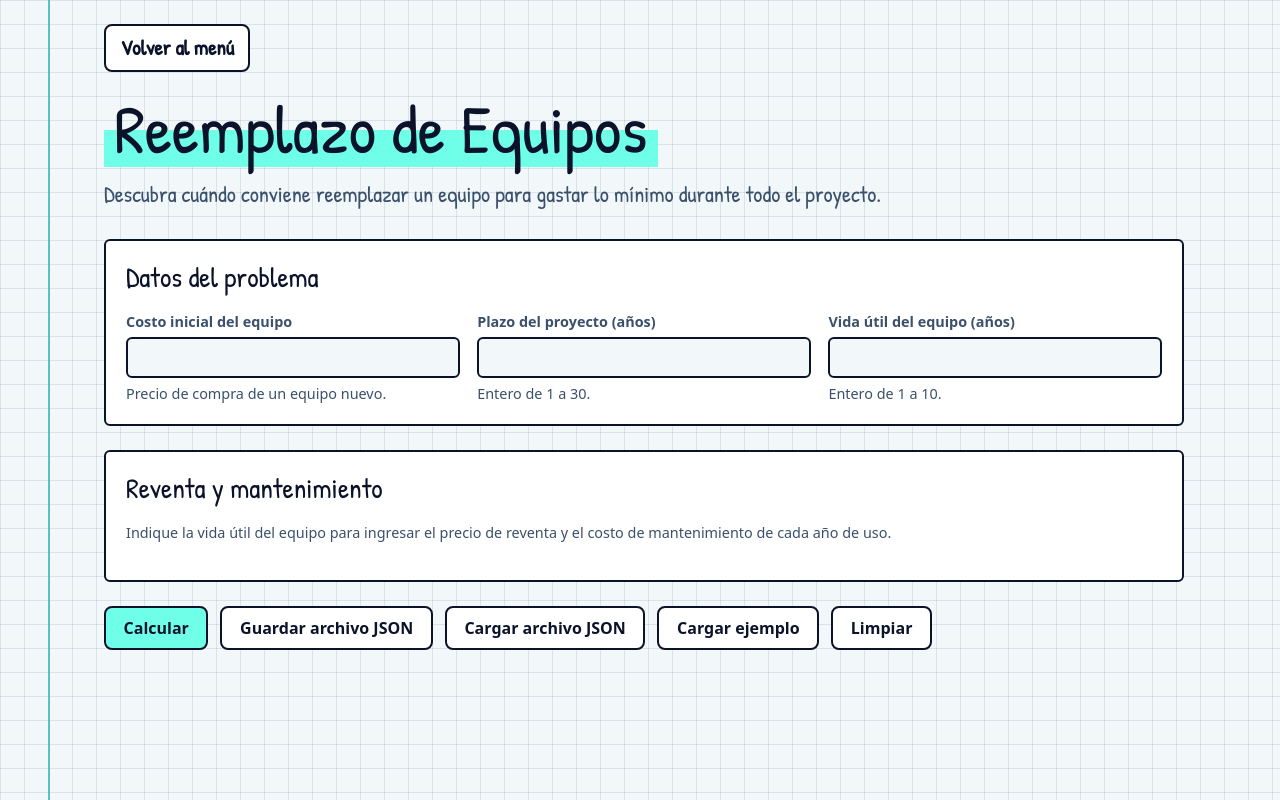
Test: Pantalla de Reemplazo de Equipos › avisa con claridad si no hay conexión con el backend
Click the button "Cargar ejemplo".
click(738, 628)  # box [658,606,819,650]
(page scrolled)
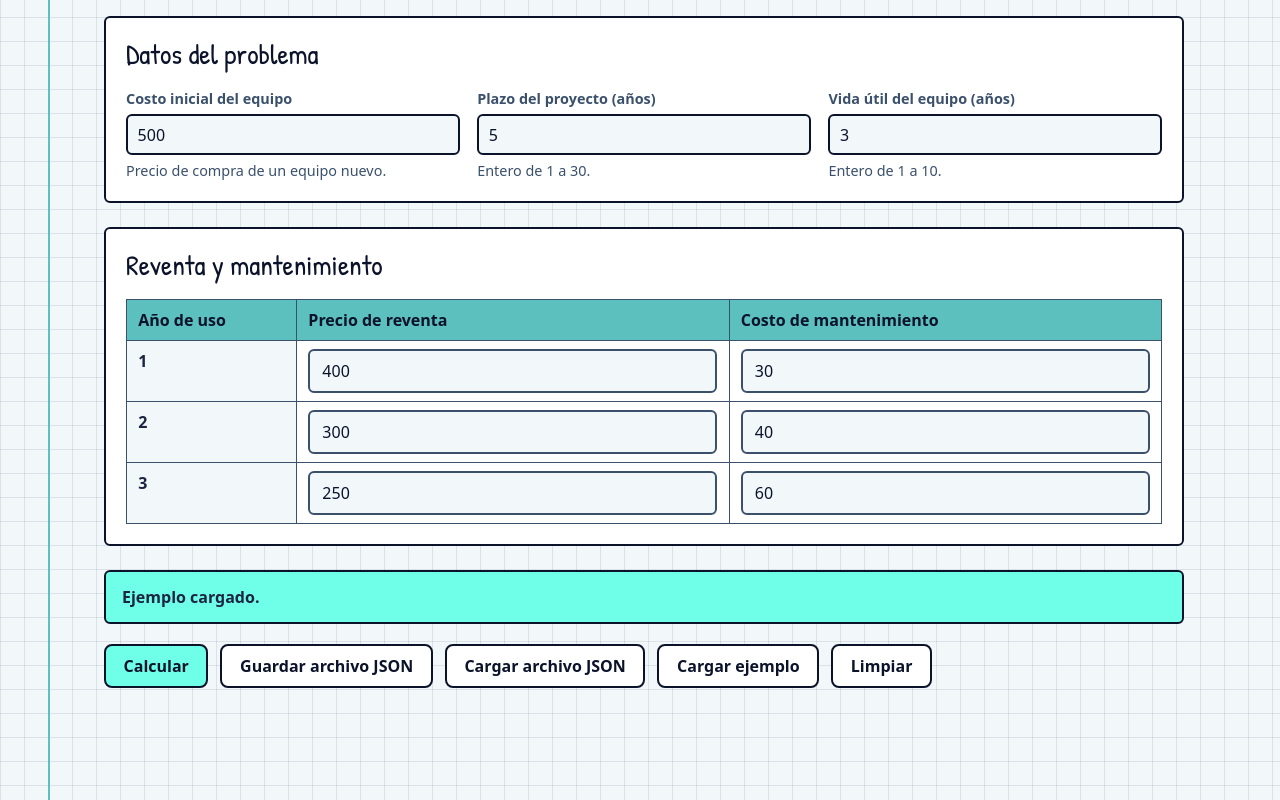
Click the button "Calcular".
click(156, 666)  # box [104,644,208,688]
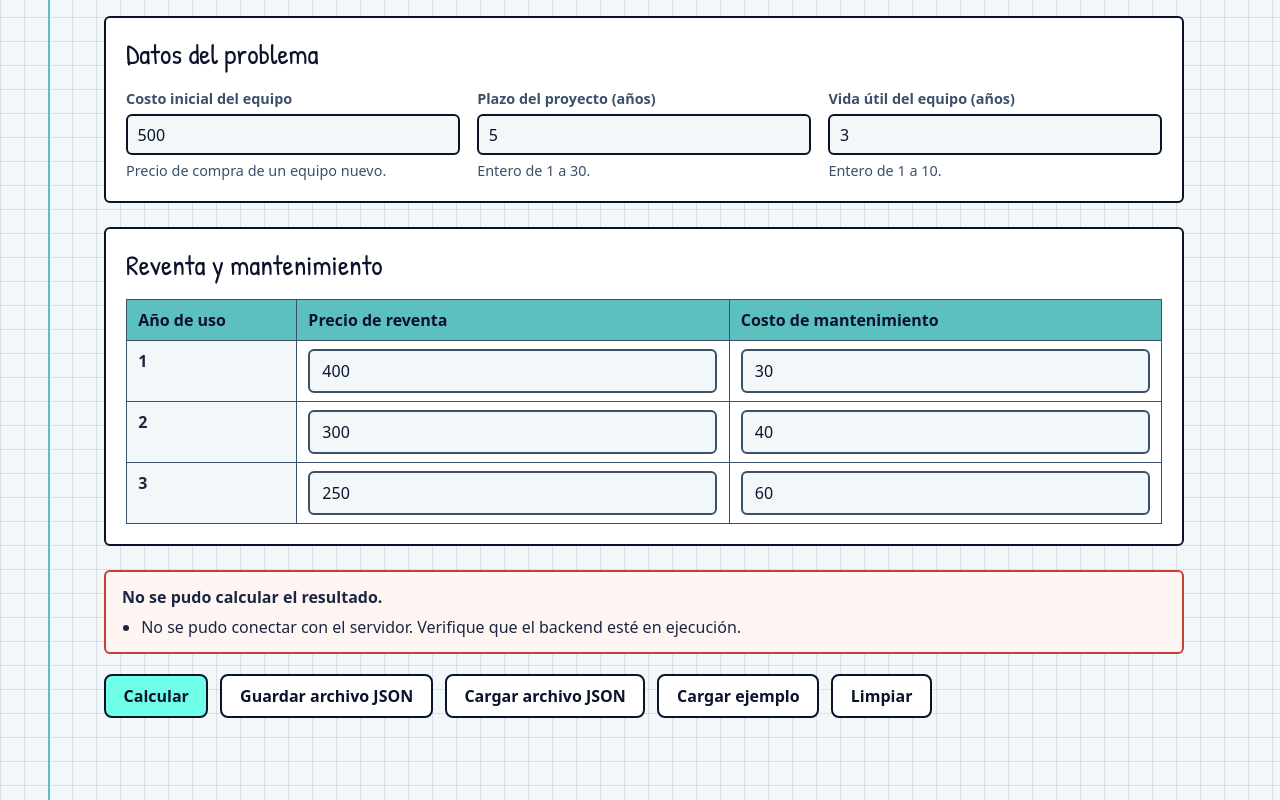
Now the message shows "No se pudo conectar", box [141,616,741,638]
